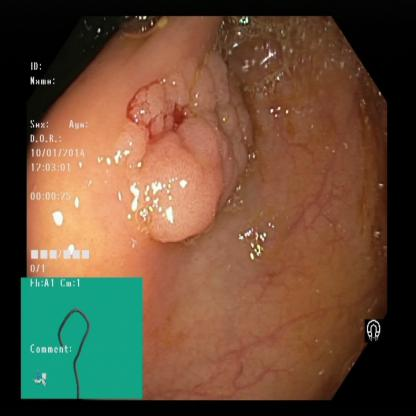Labels: (21, 277, 142, 402), (30, 60, 93, 280), (358, 310, 390, 348)
Polyps: (136, 118, 248, 244)
